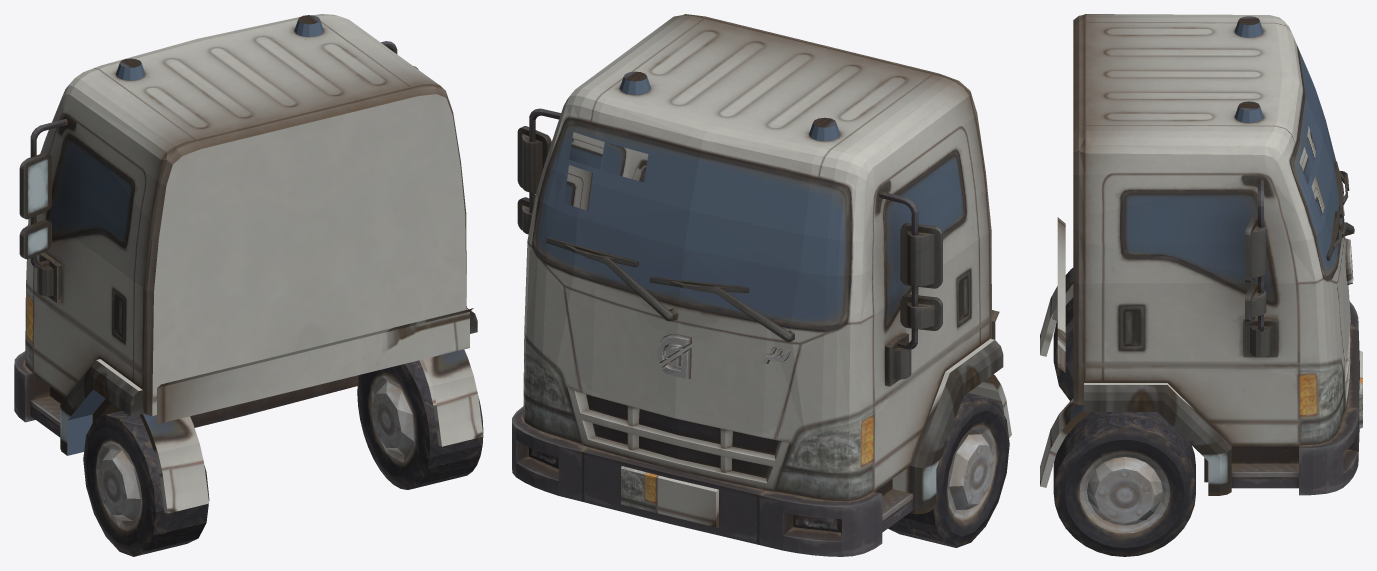
File: P_Truck_001_S1_M01b.obj
The picture shows the model from 3 angles, left to right: view 1: azimuth 30°, elevation 25°; view 2: azimuth 150°, elevation 25°; view 3: azimuth 270°, elevation 25°; orthographic projection. The views are drawn at different scales.
Size of the model in its own units: 2.26 by 2.3 by 1.62.
Materials: 3 (3 with a texture image).
